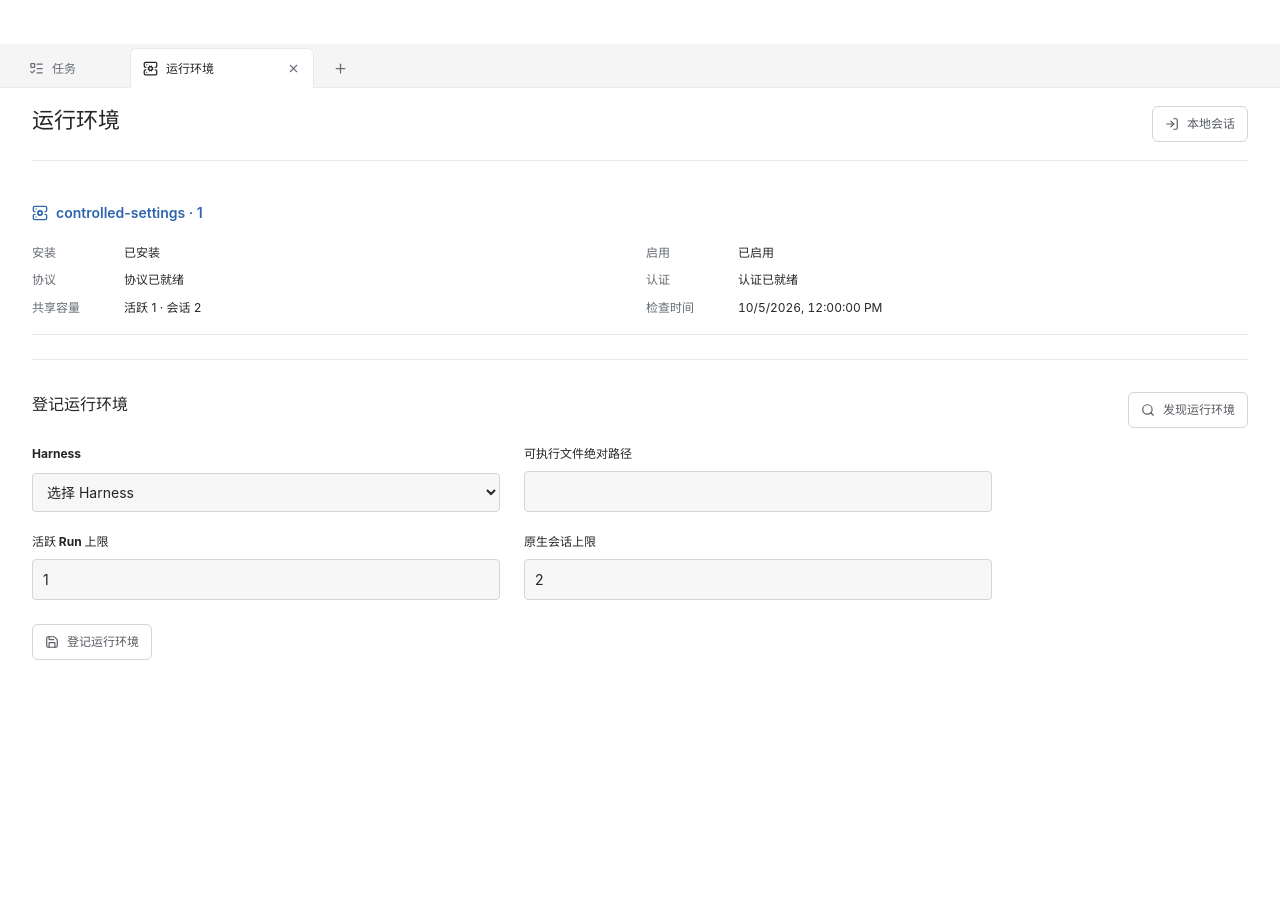
Test: explicit runtime management › discovers only explicitly and registers one reviewed absolute candidate with exact limits
Expected: the link "controlled-settings · 1" is shown, [32,201,203,224]
Click the button "发现运行环境" at (1188, 410), box [1128,392,1248,428]
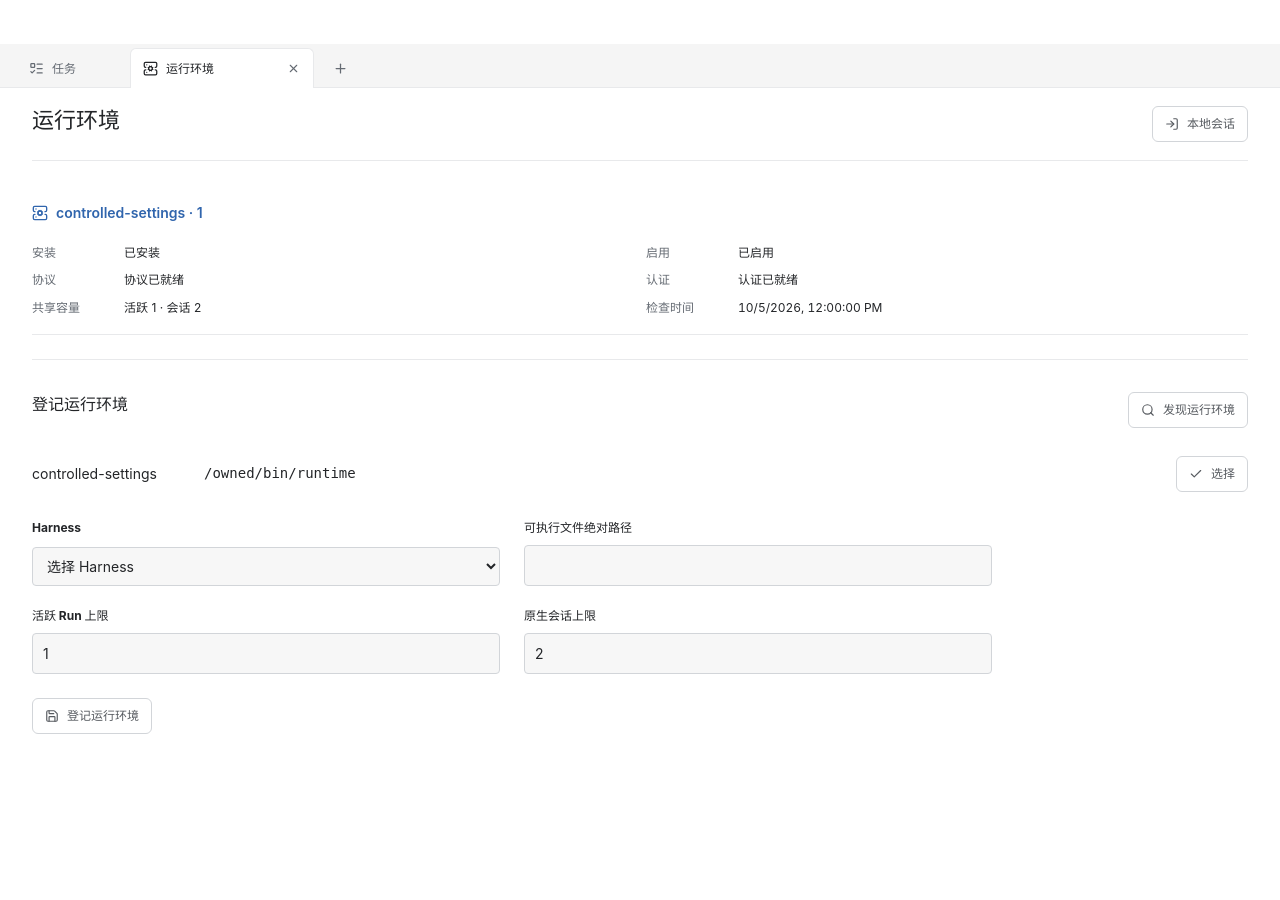
Click the button with aria-label "选择 /owned/bin/runtime" at (1212, 474), box [1176,456,1248,492]
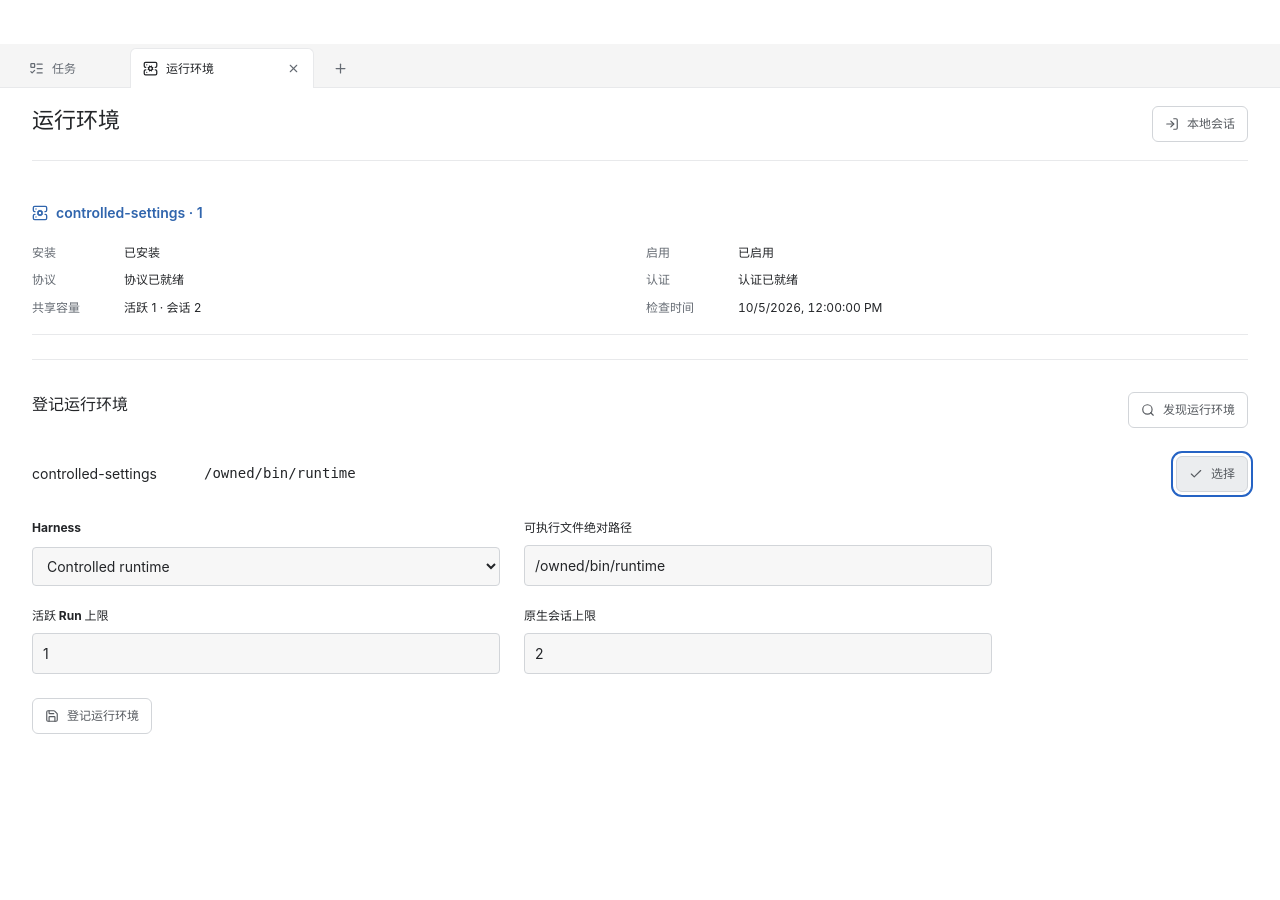
Double-click the button "登记运行环境" at (92, 716), box [32,698,152,734]
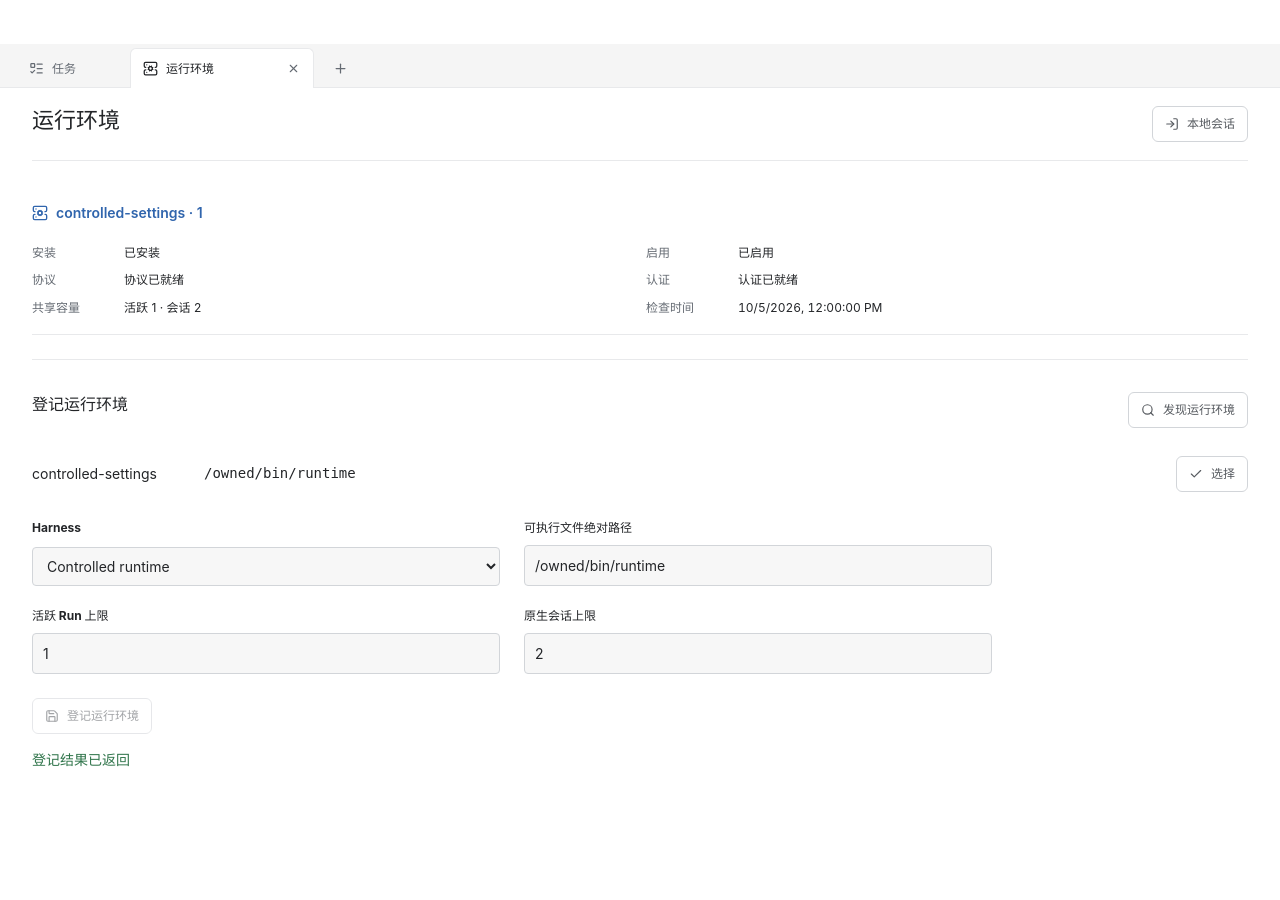
Result: the text "登记结果已返回" is shown at [32,751,130,768]
